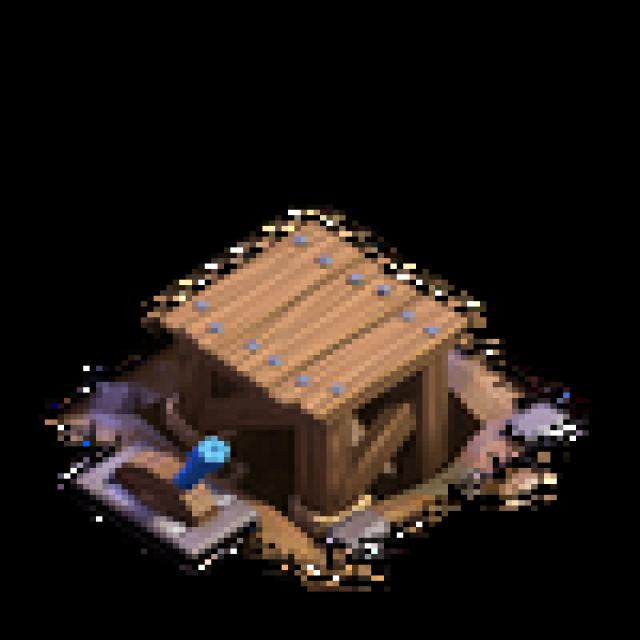archer_tower: (34, 205, 605, 618)
